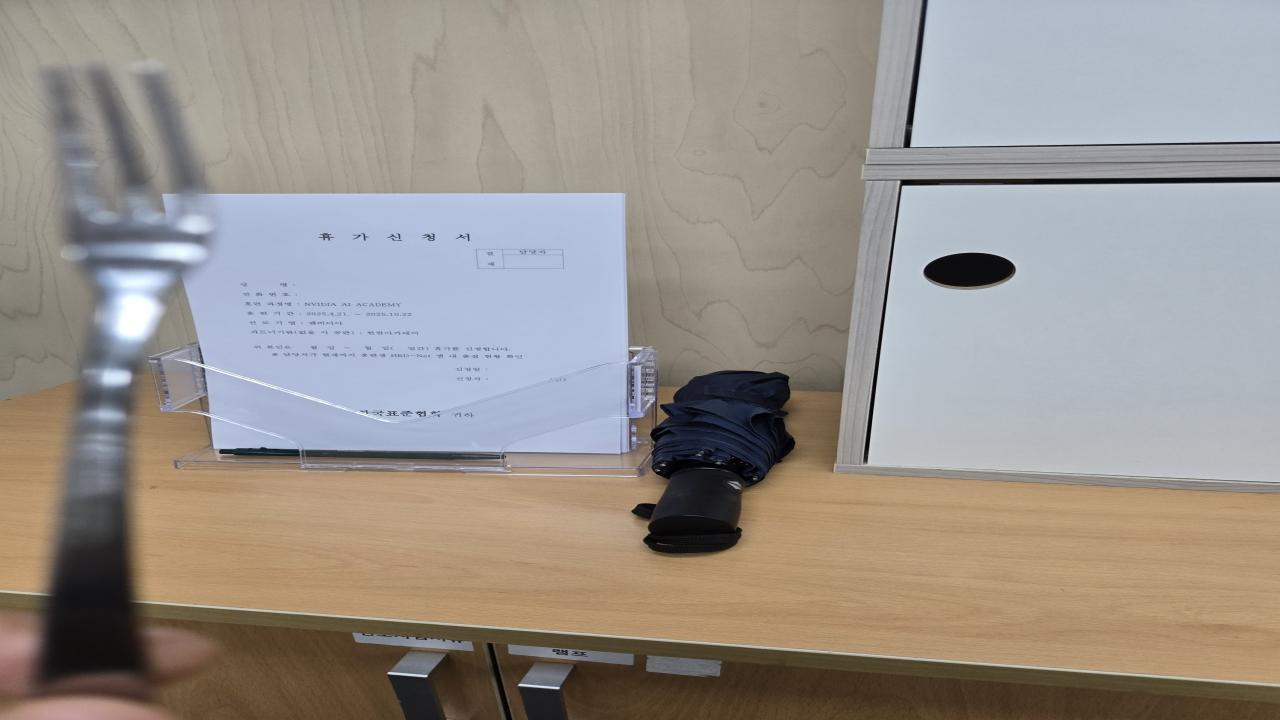fork: (27, 65, 222, 695)
